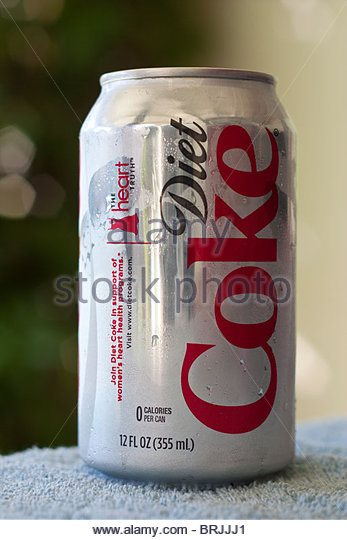coke: (81, 73, 302, 478)
